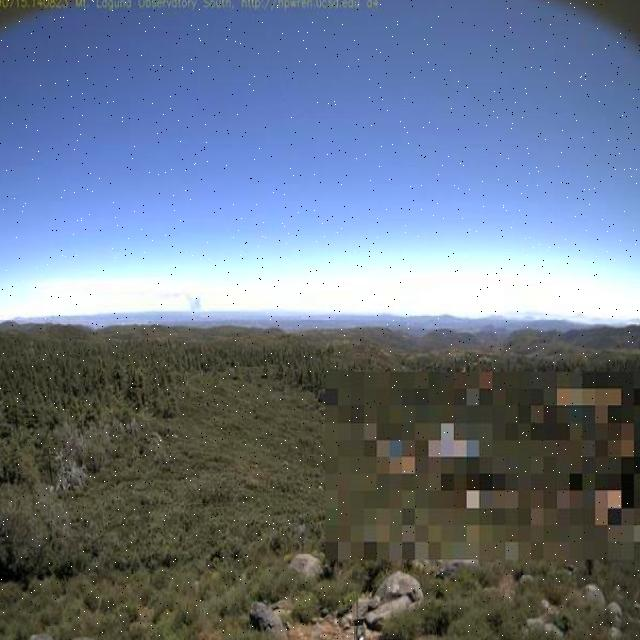smoke: (167, 287, 205, 315)
